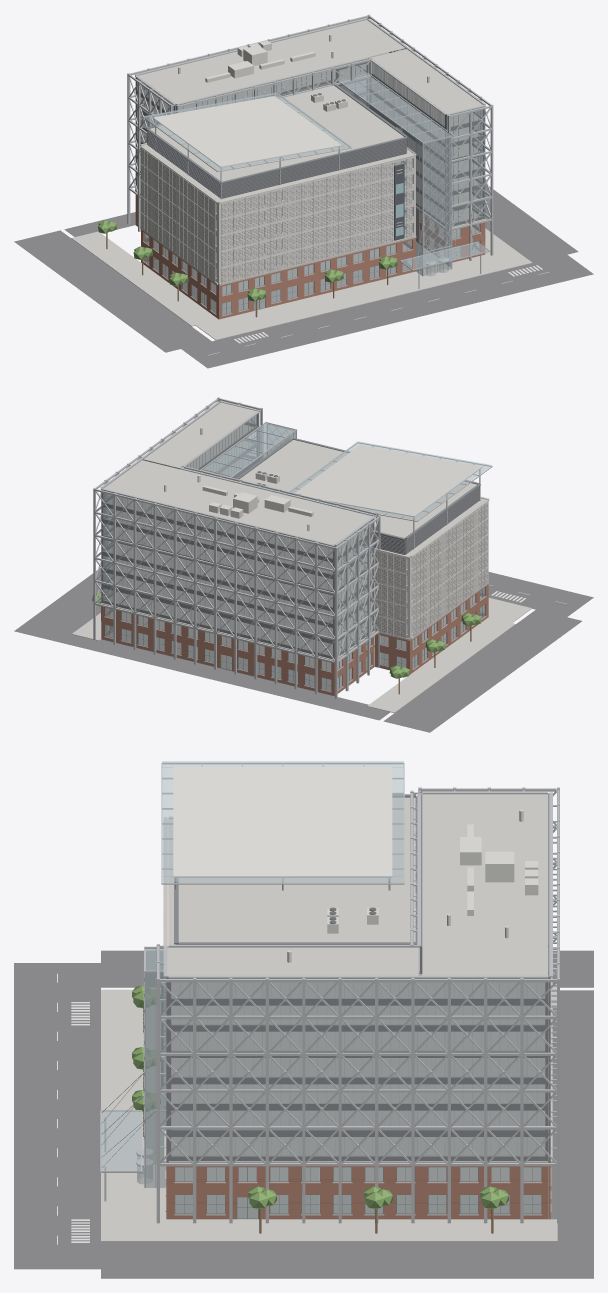
File: clay-braced-frame-hospital-clay-v005.glb
3 views of the same model, one above another, from view 1: azimuth 30°, elevation 25°; view 2: azimuth 150°, elevation 25°; view 3: azimuth 270°, elevation 25° (orthographic). The views are drawn at different scales.
Parts seen in each view (by area): view 1: CLAY_PALE, CLAY_ASPHALT, CLAY_GLASS, CLAY_MEMBRANE, CLAY_STEEL, CLAY_CONCRETE, CLAY_PERF, CLAY_TRIM, CLAY_FLOOR, CLAY_WALL, CLAY_HARDWARE, CLAY_LOUVRE (+4 smaller); view 2: CLAY_STEEL, CLAY_GLASS, CLAY_PALE, CLAY_FLOOR, CLAY_ASPHALT, CLAY_MEMBRANE, CLAY_TRIM, CLAY_WALL, CLAY_CONCRETE, CLAY_PERF, CLAY_FOUNDATION, CLAY_HARDWARE (+3 smaller); view 3: CLAY_ASPHALT, CLAY_GLASS, CLAY_STEEL, CLAY_MEMBRANE, CLAY_FLOOR, CLAY_PALE, CLAY_CONCRETE, CLAY_TRIM, CLAY_WALL, CLAY_FOUNDATION, CLAY_PLANTING, CLAY_STONE (+1 smaller).
Boxes of the visible parts, x1=… form: CLAY_PALE: x1=140, y1=34, x2=429, y2=283; CLAY_ASPHALT: x1=14, y1=184, x2=593, y2=368; CLAY_GLASS: x1=137, y1=48, x2=489, y2=314; CLAY_MEMBRANE: x1=138, y1=20, x2=482, y2=201; CLAY_STEEL: x1=127, y1=14, x2=493, y2=288; CLAY_CONCRETE: x1=71, y1=127, x2=532, y2=340; CLAY_PERF: x1=141, y1=149, x2=411, y2=282; CLAY_TRIM: x1=135, y1=19, x2=485, y2=315; CLAY_FLOOR: x1=141, y1=52, x2=479, y2=294; CLAY_WALL: x1=135, y1=195, x2=485, y2=319; CLAY_HARDWARE: x1=143, y1=93, x2=406, y2=266; CLAY_LOUVRE: x1=147, y1=85, x2=406, y2=198; CLAY_STEEL: x1=93, y1=397, x2=492, y2=698; CLAY_GLASS: x1=103, y1=415, x2=491, y2=690; CLAY_PALE: x1=164, y1=427, x2=488, y2=638; CLAY_FLOOR: x1=106, y1=424, x2=482, y2=670; CLAY_ASPHALT: x1=14, y1=568, x2=593, y2=732; CLAY_MEMBRANE: x1=104, y1=402, x2=485, y2=556; CLAY_TRIM: x1=101, y1=402, x2=485, y2=691; CLAY_WALL: x1=101, y1=581, x2=488, y2=695; CLAY_CONCRETE: x1=72, y1=496, x2=531, y2=712; CLAY_PERF: x1=376, y1=504, x2=487, y2=636; CLAY_FOUNDATION: x1=101, y1=614, x2=482, y2=696; CLAY_HARDWARE: x1=257, y1=471, x2=485, y2=616; CLAY_ASPHALT: x1=14, y1=950, x2=593, y2=1278; CLAY_GLASS: x1=101, y1=761, x2=545, y2=1218; CLAY_STEEL: x1=100, y1=762, x2=559, y2=1223; CLAY_MEMBRANE: x1=167, y1=794, x2=547, y2=976; CLAY_FLOOR: x1=171, y1=794, x2=548, y2=1188; CLAY_PALE: x1=163, y1=767, x2=538, y2=973; CLAY_CONCRETE: x1=101, y1=816, x2=557, y2=1241; CLAY_TRIM: x1=166, y1=793, x2=550, y2=1218; CLAY_WALL: x1=166, y1=1161, x2=550, y2=1219; CLAY_FOUNDATION: x1=175, y1=1189, x2=548, y2=1219; CLAY_PLANTING: x1=132, y1=986, x2=508, y2=1208; CLAY_STONE: x1=165, y1=1166, x2=551, y2=1215.
Bounding box in the file's own units: 107 × 39.8 × 80.
